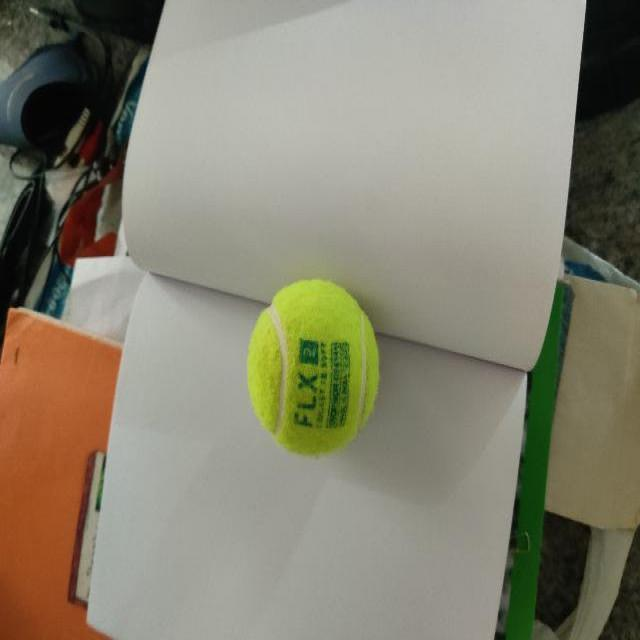tennis-ball: (246, 279, 378, 457)
